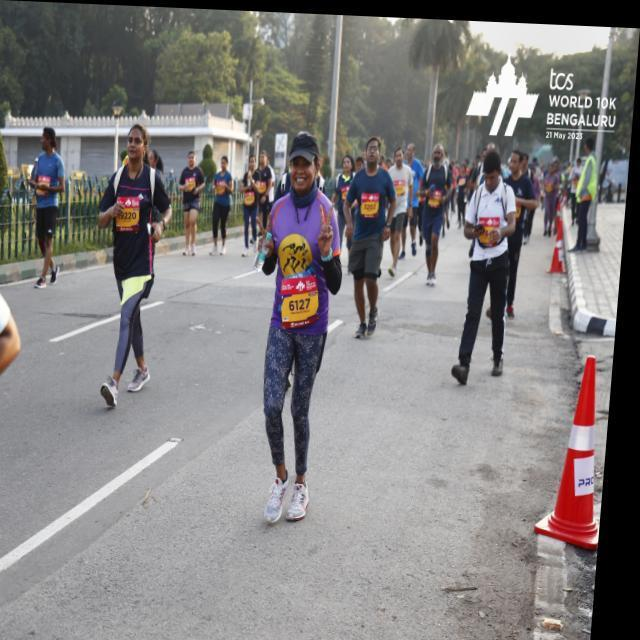dorsal: (281, 272, 327, 326), (116, 194, 146, 232), (364, 190, 383, 215)
